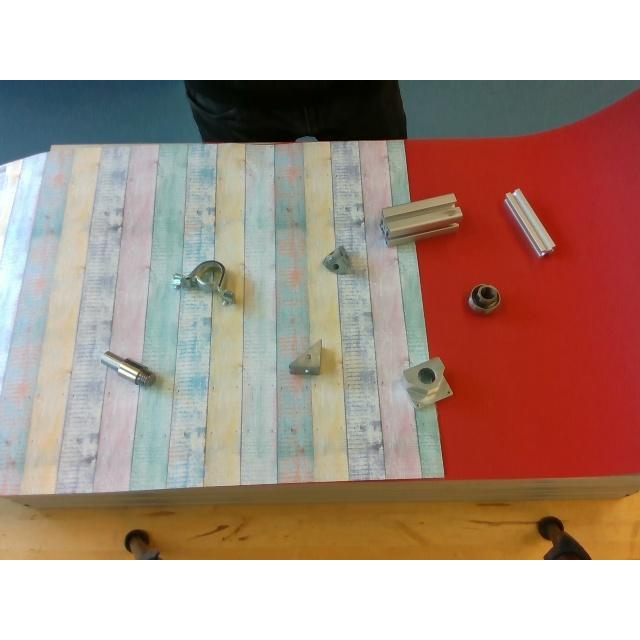Axis2: (100, 351, 156, 389)
Bearing2: (468, 284, 500, 310)
F20_20_G: (504, 188, 556, 256)
Housing: (172, 260, 235, 304)
S40_40_G: (380, 192, 462, 244)
